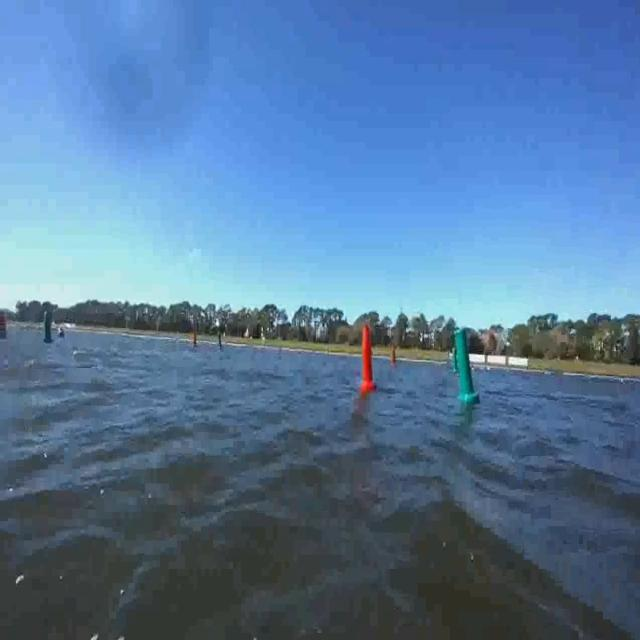green-column-buoy: (453, 330, 480, 405), (40, 308, 56, 344), (217, 332, 224, 352)
red-column-buoy: (359, 323, 375, 392), (388, 343, 395, 368), (191, 328, 197, 347)
